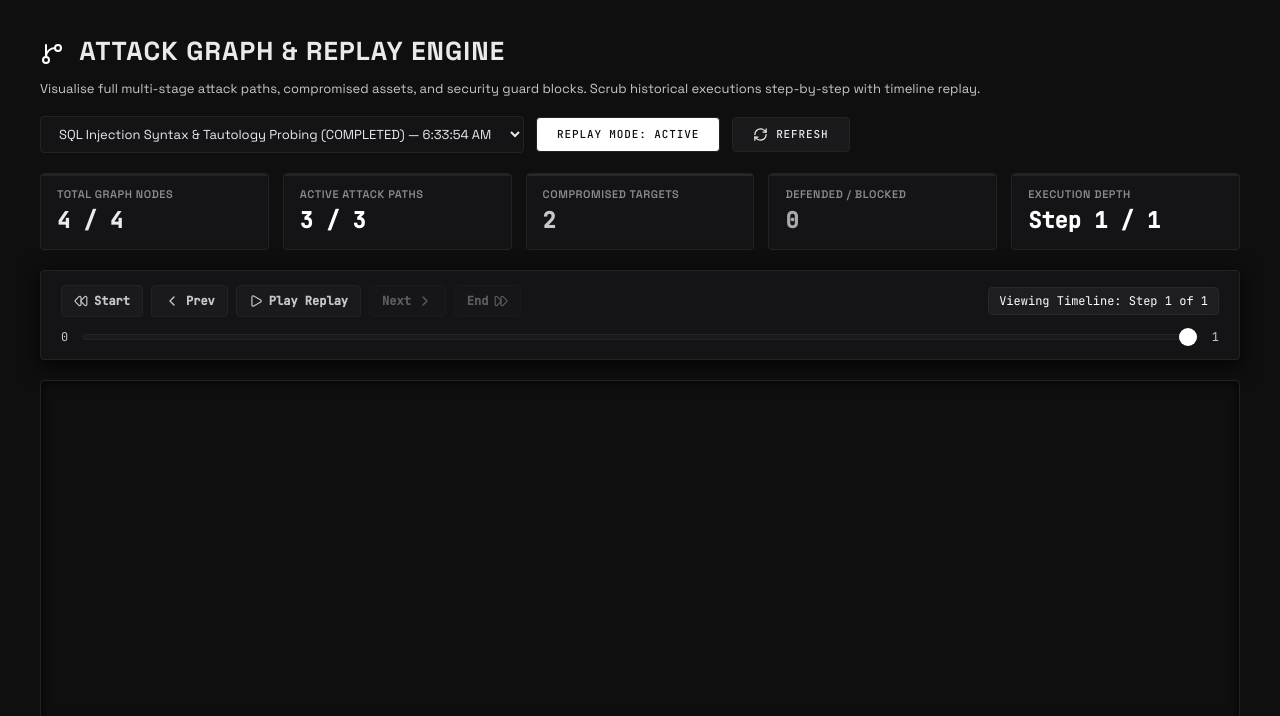
AttackGraphPage (Phase 10 — Attack Graph & Replay Engine) › toggles playback with Play / Pause button
This screenshot has width=1280, height=716.
Check: the text "Viewing Timeline: Step 1 of 1" is shown, box [988,287,1219,315]
Click the button "Play Replay" at (298, 301), box [236,285,361,317]
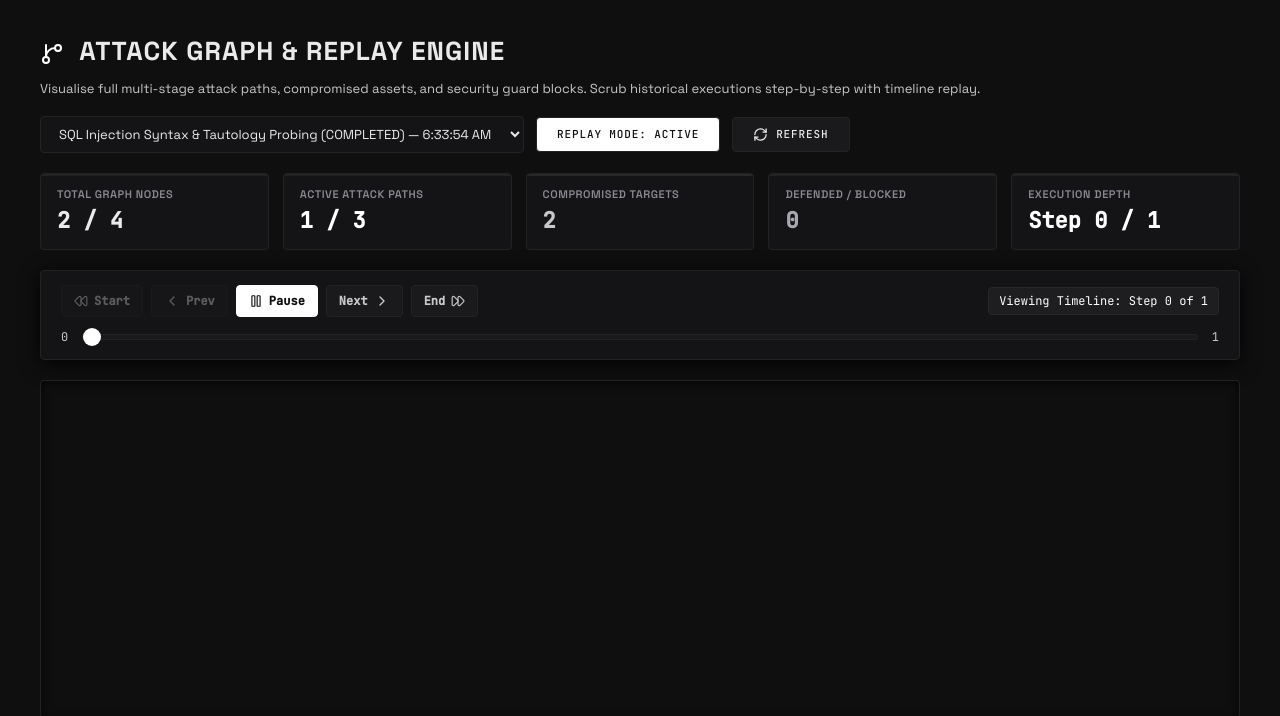
Check: the button "Pause" is shown
Note: Click pause
Click the button "Pause" at (277, 301), box [236,285,318,317]
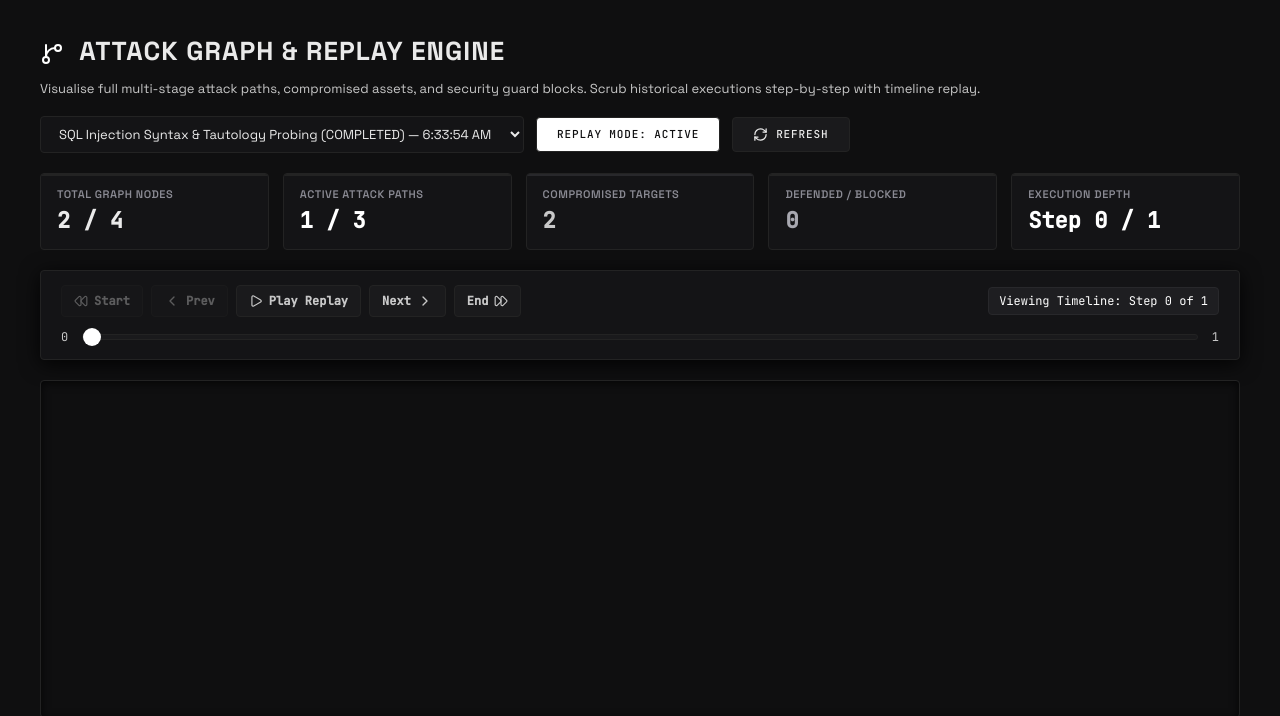
Check: the button "Play Replay" is shown, box [236,285,361,317]
